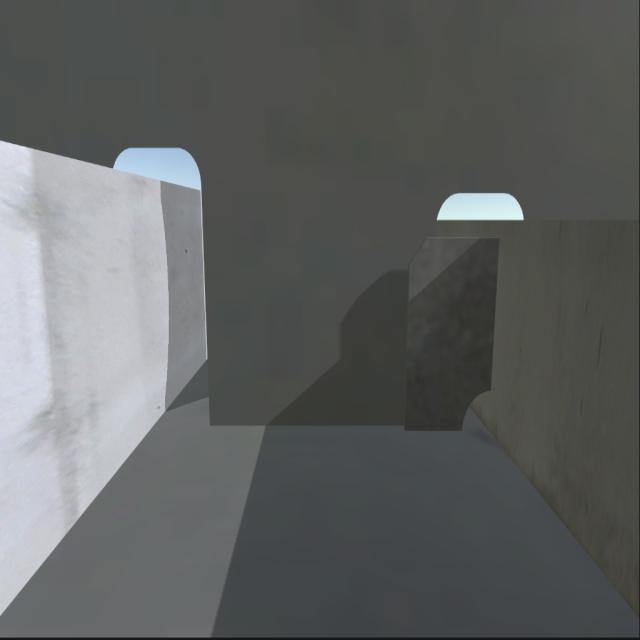fillet_hole: (457, 381, 496, 433)
fillet_yong_jeop_jang: (205, 420, 465, 435)
longi_yong_jeop_jang: (485, 232, 506, 388)
plate_CP05: (403, 239, 503, 438)
